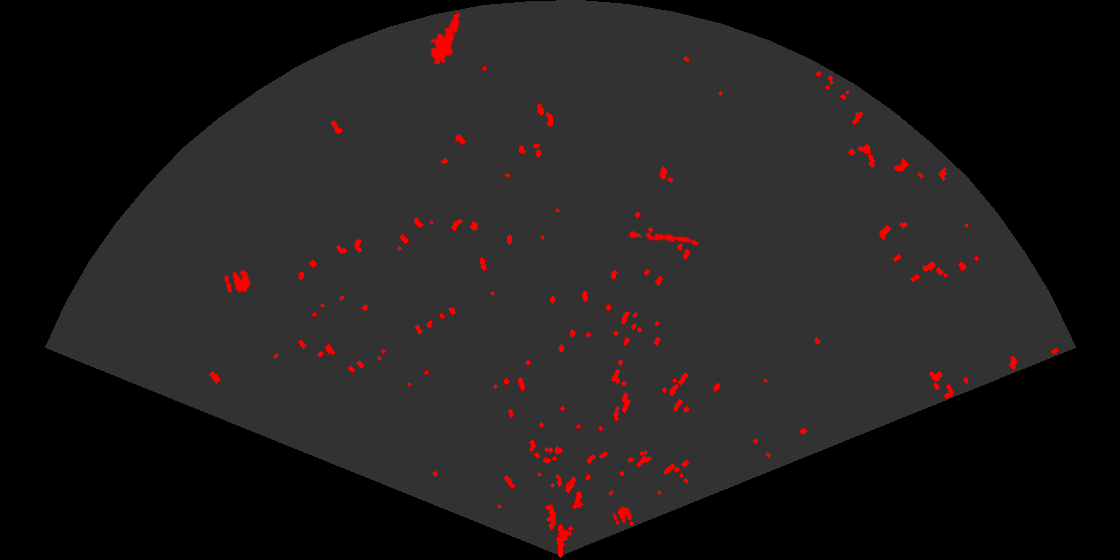ball: (222, 268, 252, 295), (610, 504, 634, 527)
chain: (628, 229, 701, 247)
frogman: (428, 10, 462, 64)
